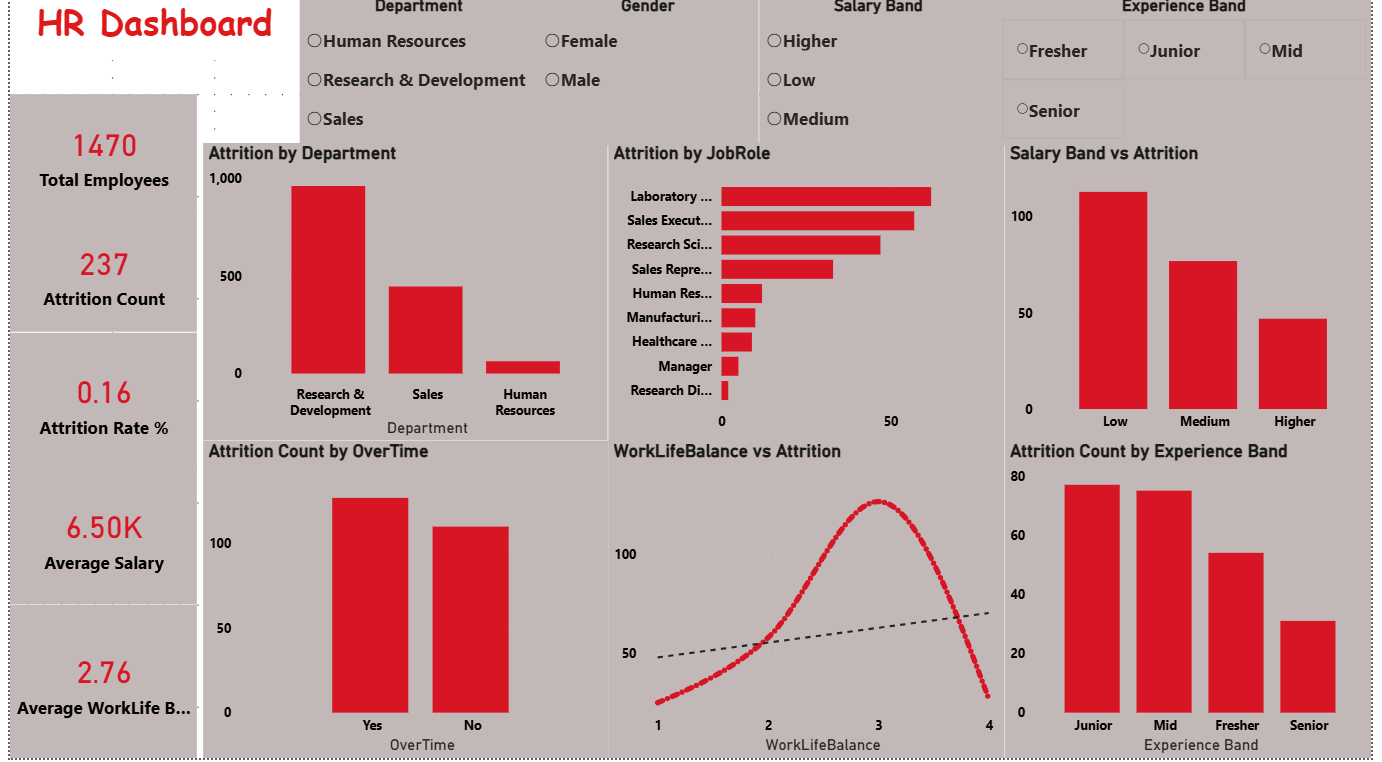

What the dashboard file says about the page in this screenshot:
{"tool":"powerbi","page":{"name":"Page 1","canvas":[1280,720],"ordinal":0},"visuals":[{"type":"card","fields":{"Values":["WA_Fn_UseC__HR_Employee_Attrition.Total Employees"]},"box":[0,142,182,87.3],"z":0},{"type":"card","fields":{"Values":["WA_Fn_UseC__HR_Employee_Attrition.Attrition Count"]},"box":[0,229.3,182,102],"z":1000},{"type":"card","fields":{"Values":["WA_Fn_UseC__HR_Employee_Attrition.Attrition Rate %"]},"box":[1.1,331.3,182,104.1],"z":2000},{"type":"card","fields":{"Values":["WA_Fn_UseC__HR_Employee_Attrition.Average Salary"]},"box":[1.1,435.4,182,107.3],"z":3000},{"type":"card","fields":{"Values":["WA_Fn_UseC__HR_Employee_Attrition.Average WorkLife Balance"]},"box":[0,542.7,182,119.9],"z":4000},{"type":"textbox","box":[1.1,0,341.8,48.4],"z":5000},{"type":"clusteredColumnChart","title":"Attrition by Department","fields":{"Category":["WA_Fn_UseC__HR_Employee_Attrition.Department"],"Y":["CountNonNull(WA_Fn_UseC__HR_Employee_Attrition.Attrition)"]},"box":[181.9,142.4,380.4,279.6],"z":6000},{"type":"barChart","title":"Attrition by JobRole","fields":{"Category":["WA_Fn_UseC__HR_Employee_Attrition.JobRole"],"Y":["WA_Fn_UseC__HR_Employee_Attrition.Attrition Count"]},"box":[562.7,142,372.3,279.8],"z":7000},{"type":"columnChart","title":"Salary Band vs Attrition","fields":{"Category":["WA_Fn_UseC__HR_Employee_Attrition.Salary Band"],"Y":["WA_Fn_UseC__HR_Employee_Attrition.Attrition Count"]},"box":[935,142,345,279.8],"z":8000},{"type":"clusteredColumnChart","fields":{"Category":["WA_Fn_UseC__HR_Employee_Attrition.OverTime"],"Y":["WA_Fn_UseC__HR_Employee_Attrition.Attrition Count"]},"box":[182,421.7,380.7,298.7],"z":9000},{"type":"lineChart","title":"WorkLifeBalance vs Attrition","fields":{"Category":["WA_Fn_UseC__HR_Employee_Attrition.WorkLifeBalance"],"Y":["WA_Fn_UseC__HR_Employee_Attrition.Attrition Count"]},"box":[562.7,421.7,372.3,298.7],"z":10000},{"type":"columnChart","fields":{"Category":["WA_Fn_UseC__HR_Employee_Attrition.Experience Band"],"Y":["WA_Fn_UseC__HR_Employee_Attrition.Attrition Count"]},"box":[935,421.7,345,298.7],"z":11000},{"type":"listSlicer","fields":{"Values":["WA_Fn_UseC__HR_Employee_Attrition.Department"]},"box":[274.5,0,213.5,142],"z":11001}]}

Visuals, with their boxes in screenshot pixels (x1, y1, x2, y2), scaled from the page's 1280x720 canvas onto the 1382x762 screenshot:
card - WA_Fn_UseC__HR_Employee_Attrition.Total Employees: x1=0 y1=150 x2=197 y2=243
card - WA_Fn_UseC__HR_Employee_Attrition.Attrition Count: x1=0 y1=243 x2=197 y2=351
card - WA_Fn_UseC__HR_Employee_Attrition.Attrition Rate %: x1=1 y1=351 x2=198 y2=461
card - WA_Fn_UseC__HR_Employee_Attrition.Average Salary: x1=1 y1=461 x2=198 y2=574
card - WA_Fn_UseC__HR_Employee_Attrition.Average WorkLife Balance: x1=0 y1=574 x2=197 y2=701
textbox: x1=1 y1=0 x2=370 y2=51
"Attrition by Department" clusteredColumnChart: x1=196 y1=151 x2=607 y2=447
"Attrition by JobRole" barChart: x1=608 y1=150 x2=1010 y2=446
"Salary Band vs Attrition" columnChart: x1=1010 y1=150 x2=1381 y2=446
clusteredColumnChart - WA_Fn_UseC__HR_Employee_Attrition.OverTime x WA_Fn_UseC__HR_Employee_Attrition.Attrition Count: x1=197 y1=446 x2=608 y2=761
"WorkLifeBalance vs Attrition" lineChart: x1=608 y1=446 x2=1010 y2=761
columnChart - WA_Fn_UseC__HR_Employee_Attrition.Experience Band x WA_Fn_UseC__HR_Employee_Attrition.Attrition Count: x1=1010 y1=446 x2=1381 y2=761
listSlicer - WA_Fn_UseC__HR_Employee_Attrition.Department: x1=296 y1=0 x2=527 y2=150
